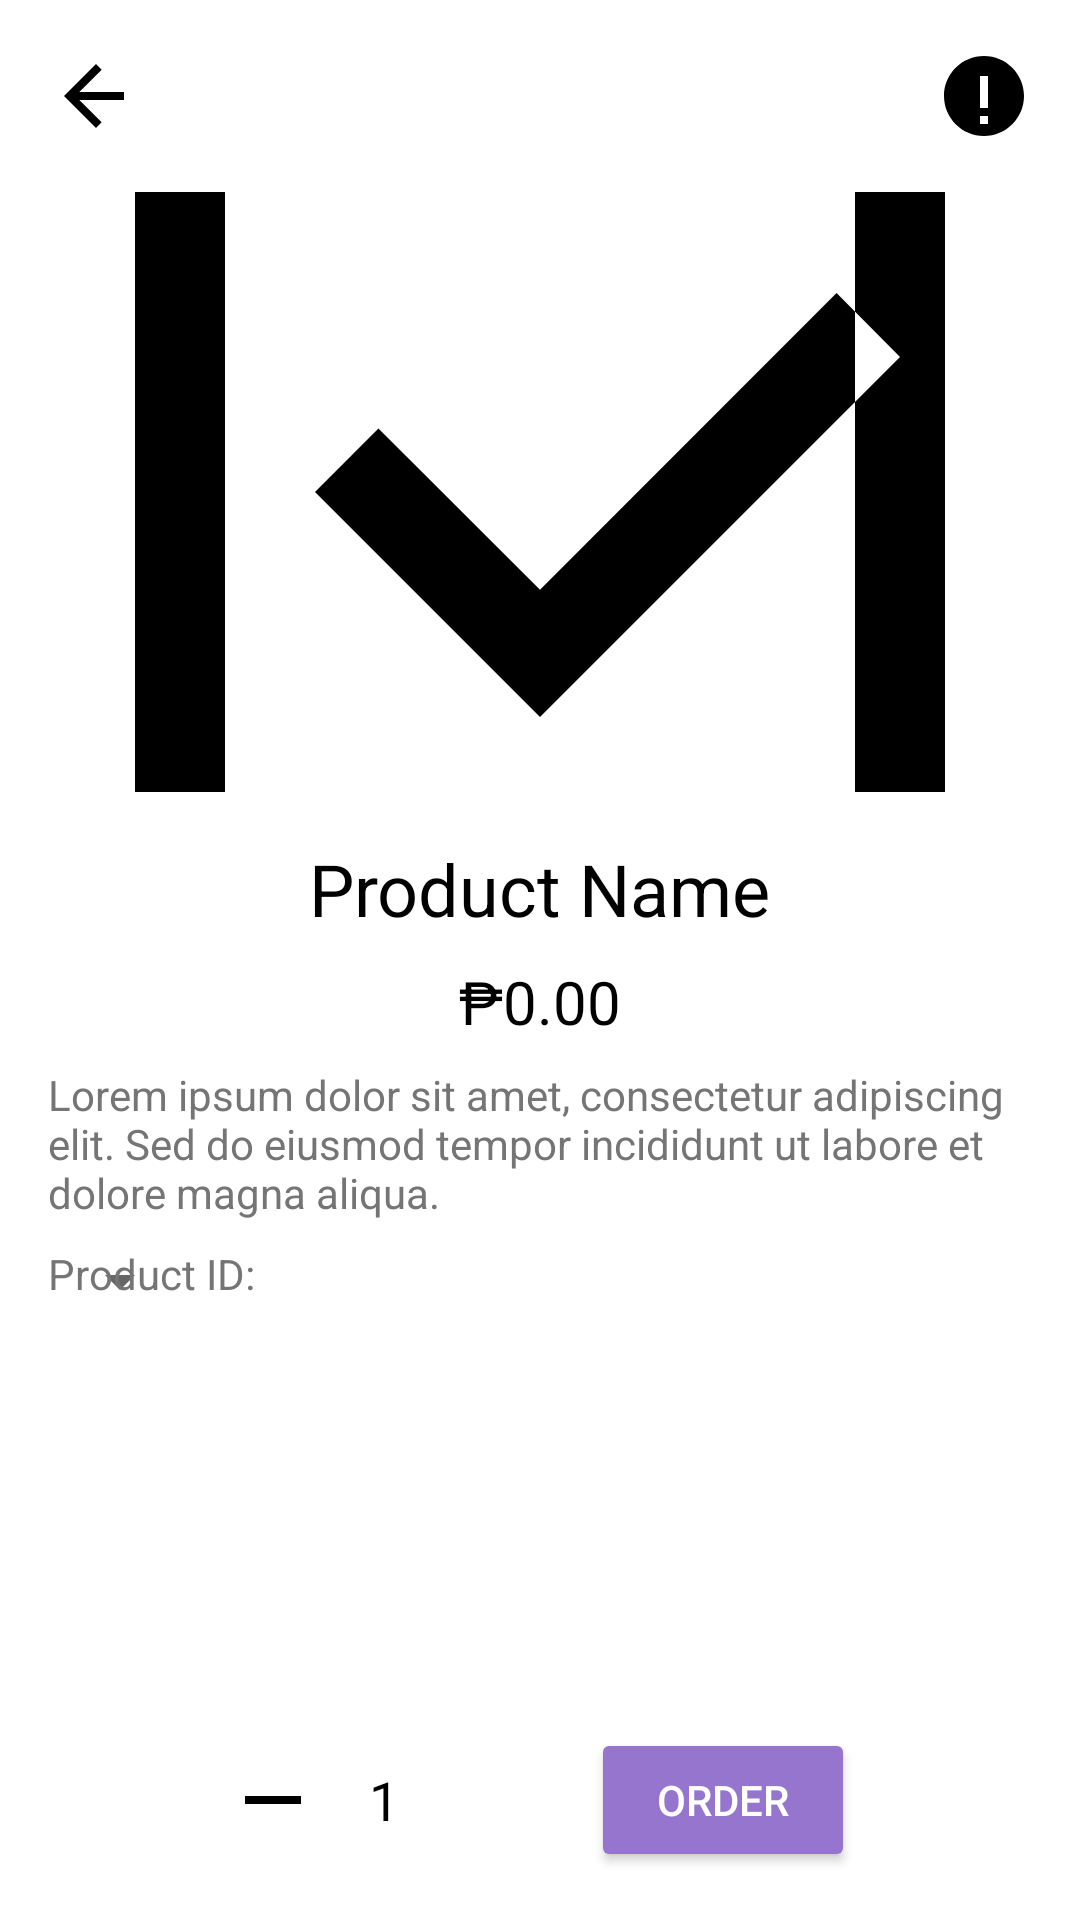

Named icons in this screenshot (1080px x 1920px) and their bounding boxes, box(x1, y1, x2, y2):
Back: box(64, 64, 124, 128)
Report: box(944, 56, 1024, 136)
